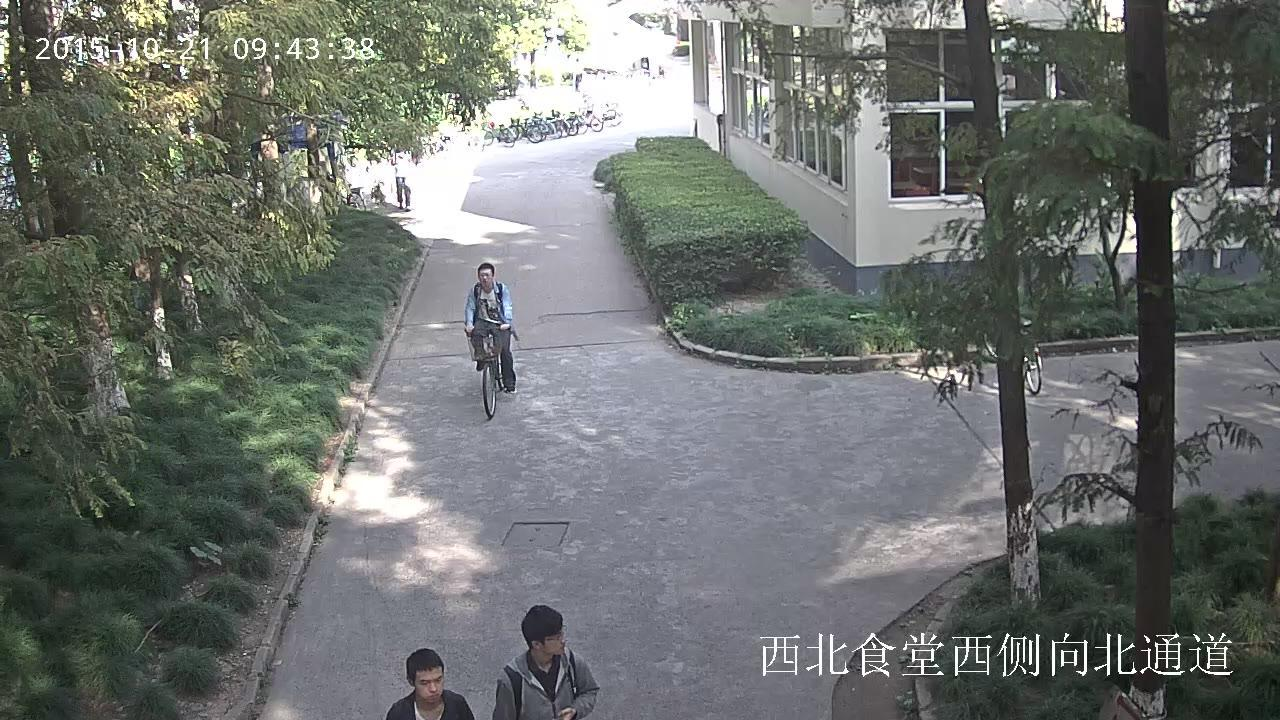person: (491, 605, 597, 720), (463, 261, 519, 420), (382, 648, 479, 720), (463, 262, 517, 391), (392, 147, 413, 210)
